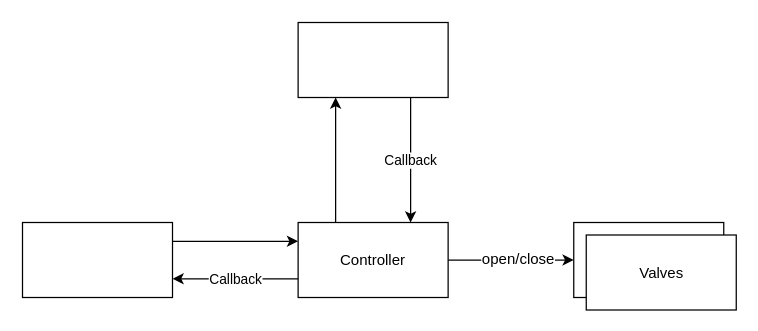
This 758x331 diagram has some shape labels left out. The shapes that lost their labels are listed below. From the top down, each one's centre as x and y in pixels, then its label:
point 372,59: Timer
point 96,259: Homie
